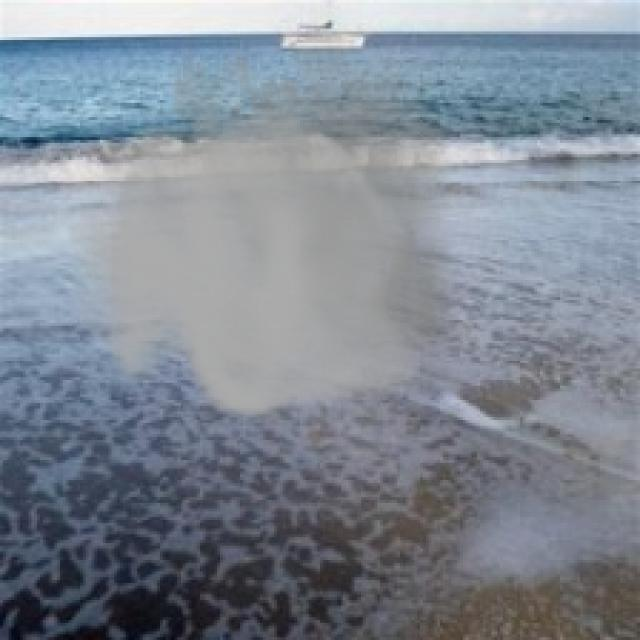Smoke: (68, 0, 474, 426)
